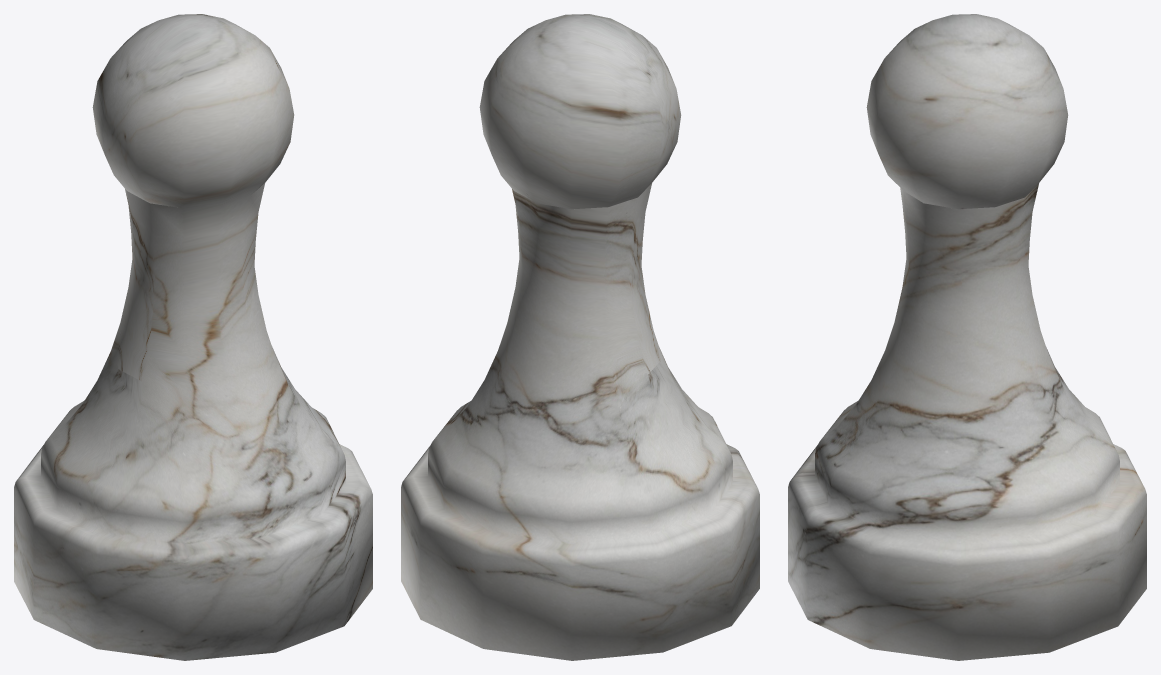
Rendered from PeonBlanco.glb.
The picture shows the model from 3 angles, left to right: view 1: azimuth 30°, elevation 25°; view 2: azimuth 150°, elevation 25°; view 3: azimuth 270°, elevation 25°; orthographic projection.
Visible parts, largest first — view 1: PeonB; view 2: PeonB; view 3: PeonB.
Part boxes in pixels (<box>): PeonB: <box>14,14,372,660</box>; PeonB: <box>401,14,759,660</box>; PeonB: <box>788,14,1146,660</box>.
Size of the model in its own units: 0.7033 by 1.22 by 0.7033.
1 material, 1 textured.
